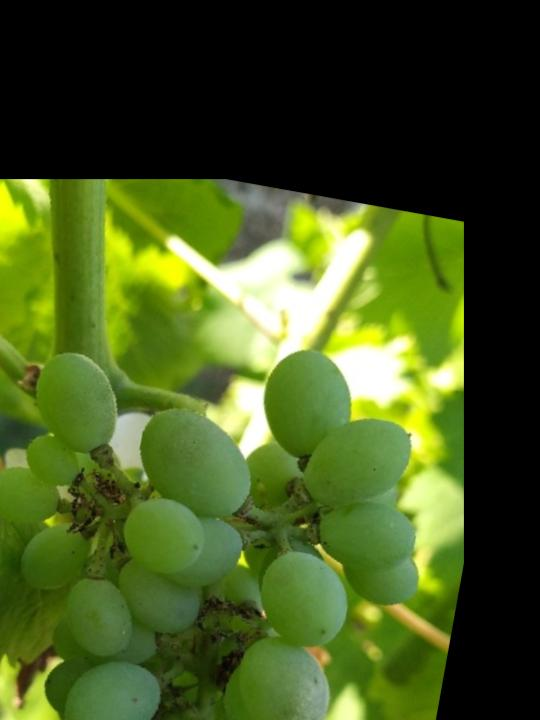grape: (0, 286, 465, 720)
